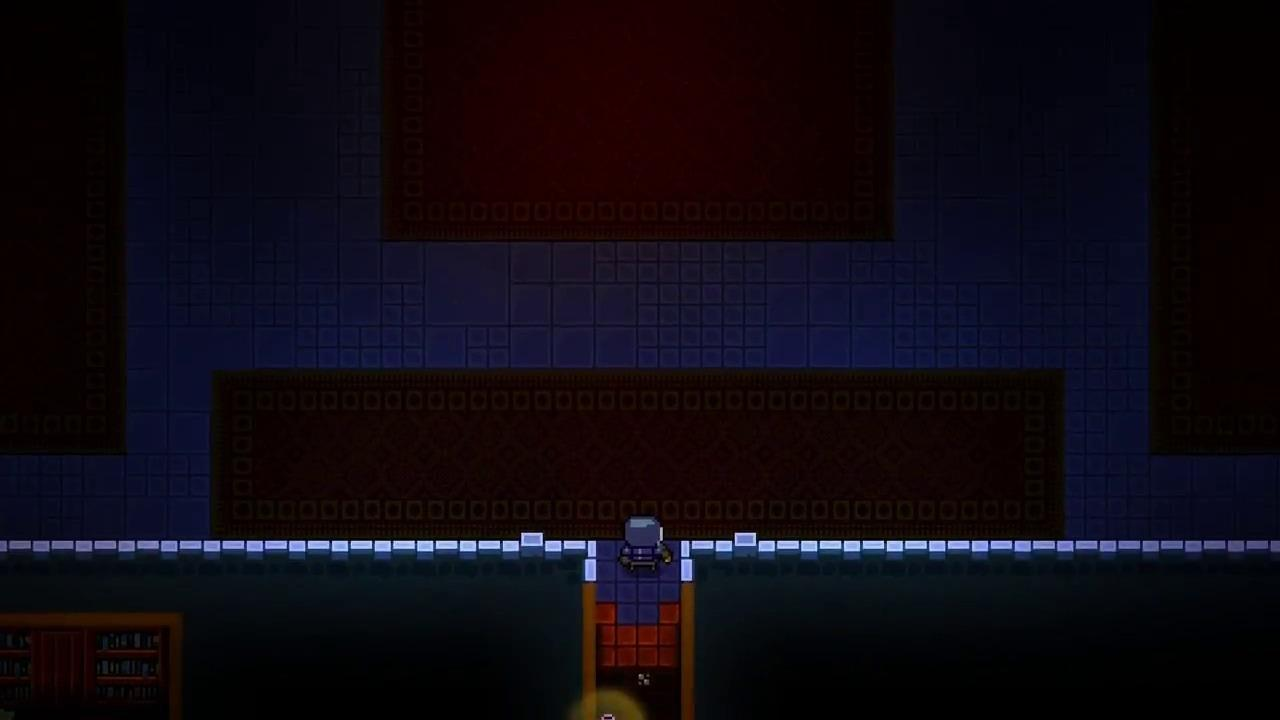player: (626, 518, 664, 573)
